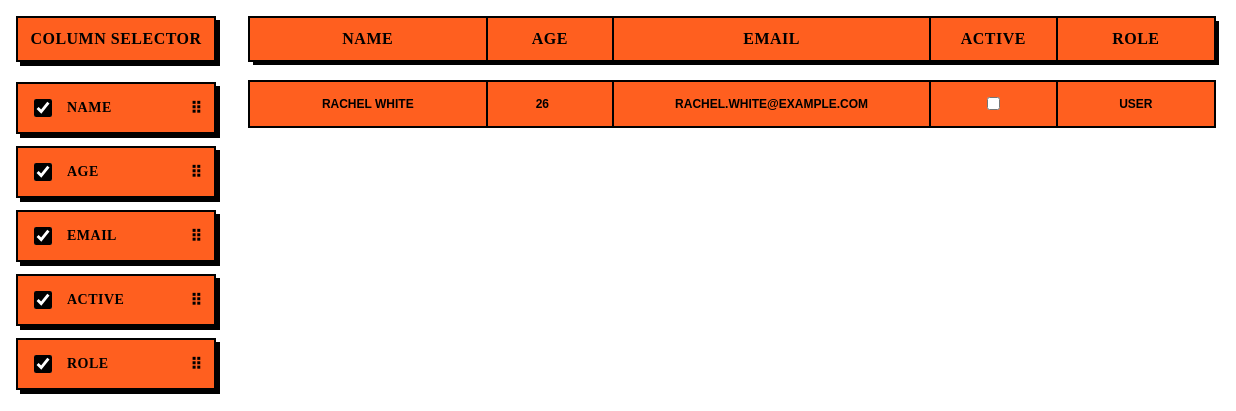
Test: Table Cell Editing › toggles column visibility when checkbox in Column Selector is clicked
Expected: the number of column headings is 5, 249,17 -> 486,61; 486,17 -> 613,61; 613,17 -> 930,61; 930,17 -> 1057,61; 1057,17 -> 1215,61
Expected: the column heading "Name" is shown, 249,17 -> 486,61
disable the email column
What coordinates should you click on to do the following:
click the 4th checkbox
I would click on:
 (43, 236)
Its box is 34,227 -> 52,245.
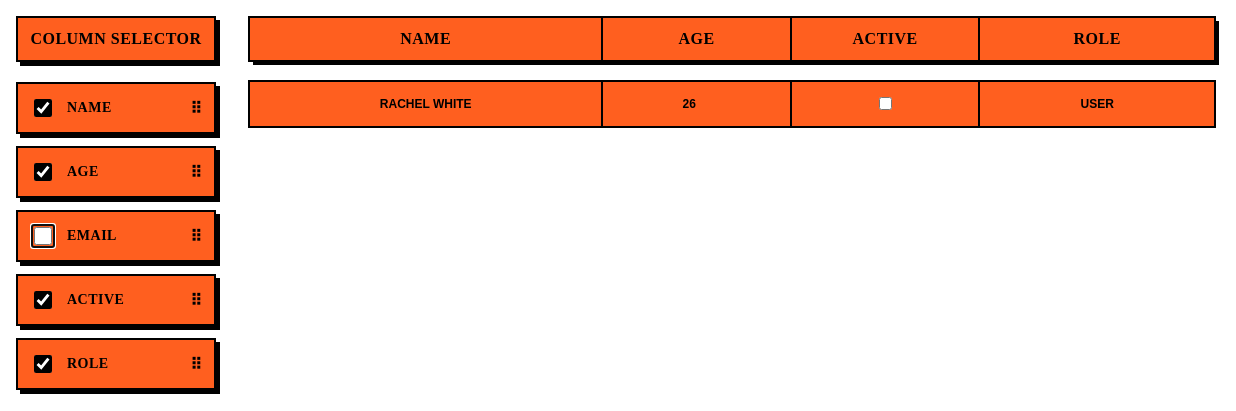
Expected: the column heading "Name" is shown, 249,17 -> 602,61
Result: the number of column headings is 4 at 249,17 -> 602,61; 602,17 -> 791,61; 791,17 -> 979,61; 979,17 -> 1215,61
Result: the field is gone
enable the email column
What coordinates should you click on to do the following:
click the 4th checkbox
I would click on:
 (43, 236)
Its box is 34,227 -> 52,245.
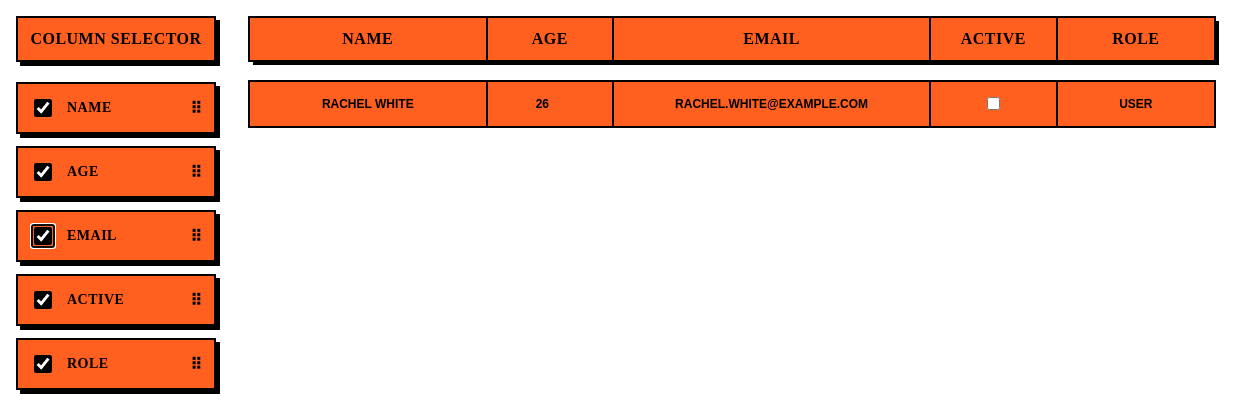
Result: the number of column headings is 5 at 249,17 -> 486,61; 486,17 -> 613,61; 613,17 -> 930,61; 930,17 -> 1057,61; 1057,17 -> 1215,61
Result: the column heading "Email" is shown at 613,17 -> 930,61
Result: the 2nd field holds "rachel.white@example.com" at 626,97 -> 917,111
